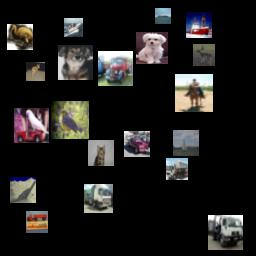airplane: (10, 177, 36, 203)
automobile: (124, 131, 150, 157)
bird: (51, 101, 89, 139), (14, 108, 49, 143), (7, 24, 33, 50)
cat: (88, 140, 114, 166)
deer: (193, 44, 215, 66), (26, 62, 45, 81)
dog: (58, 45, 93, 80), (136, 32, 168, 64)
ship: (186, 12, 212, 38), (173, 130, 199, 156), (64, 18, 83, 37), (155, 8, 171, 24)
truck: (98, 51, 133, 86), (208, 215, 243, 250), (84, 184, 113, 213), (166, 158, 188, 180), (26, 211, 48, 233)
